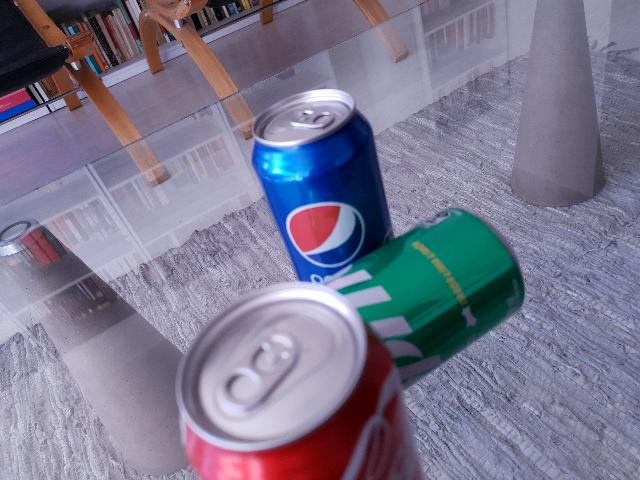coke: (178, 284, 428, 480)
pepsi: (250, 88, 402, 283)
sprite: (297, 203, 528, 386)
